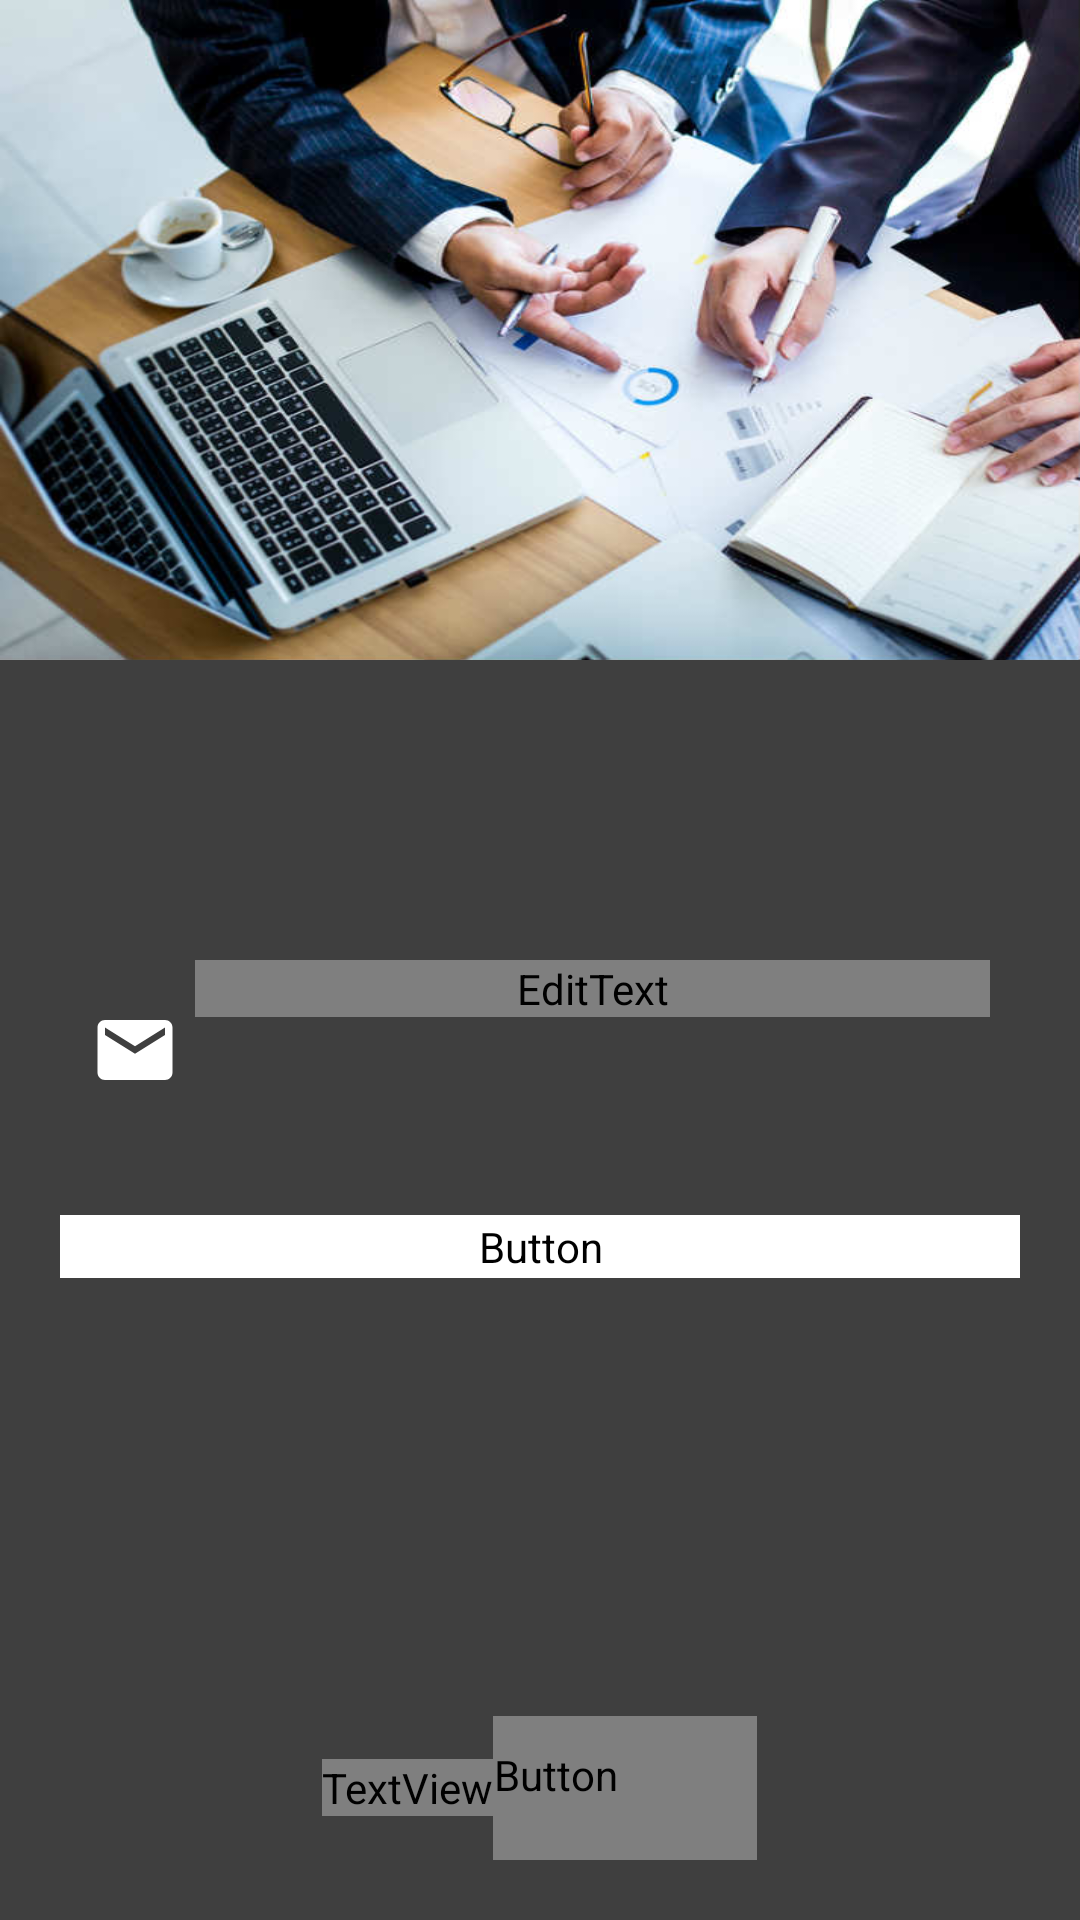

Icons on this 1080 × 1920 Android screen, each with the point to tap as [x,y]:
email: [135,1050]
